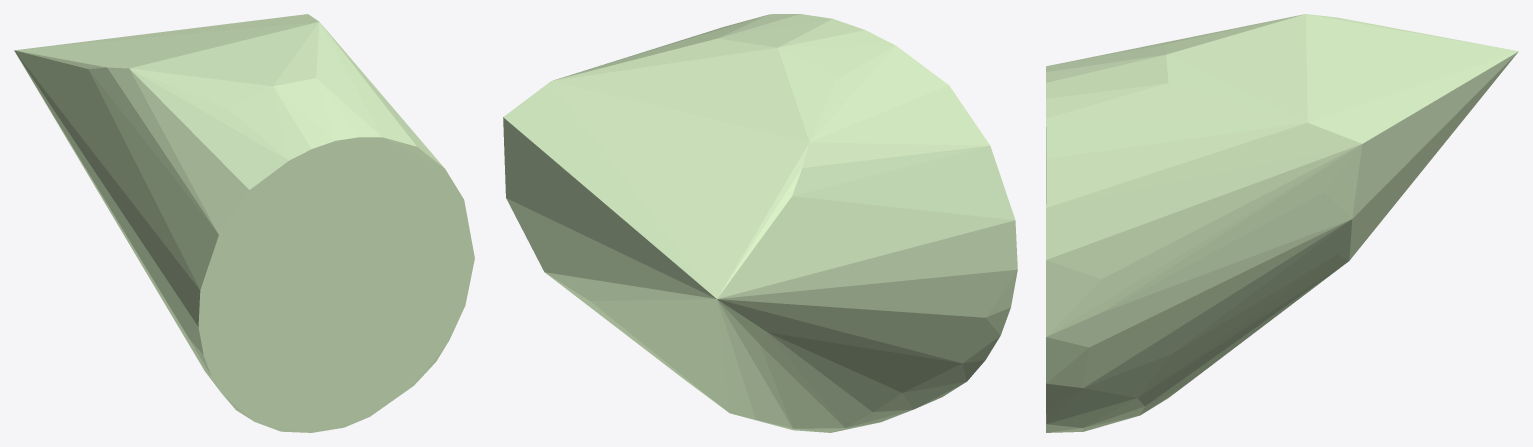
Rendered from kuka_link3_resp_coll_2.dae.
The picture shows the model from 3 angles, left to right: view 1: azimuth 30°, elevation 25°; view 2: azimuth 150°, elevation 25°; view 3: azimuth 270°, elevation 25°; orthographic projection. The views are drawn at different scales.
Parts seen in each view (by area): view 1: Node_0000015C5C9144E0; view 2: Node_0000015C5C9144E0; view 3: Node_0000015C5C9144E0.
Part boxes in pixels (x1,y1,x2,y2): Node_0000015C5C9144E0: [14, 14, 474, 432]; Node_0000015C5C9144E0: [503, 14, 1017, 432]; Node_0000015C5C9144E0: [1046, 14, 1518, 432].
Bounding box in the file's own units: 0.1363 × 0.1452 × 0.1743.
